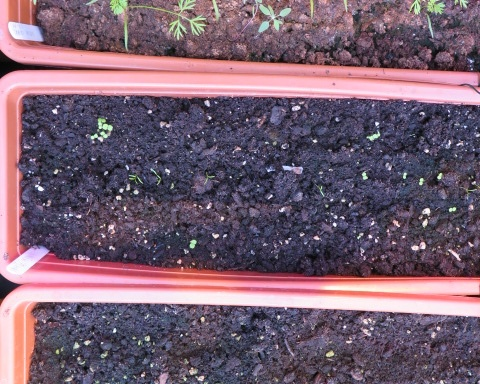crop: (150, 168, 163, 185), (127, 173, 143, 186), (203, 171, 216, 185), (315, 183, 326, 196)
weed: (257, 4, 291, 34), (366, 132, 382, 143), (444, 204, 458, 213), (187, 238, 198, 249), (360, 170, 370, 182), (102, 124, 115, 132), (435, 170, 444, 181), (400, 170, 408, 182), (417, 176, 425, 187), (100, 131, 109, 138), (99, 116, 107, 123), (90, 133, 98, 139)
